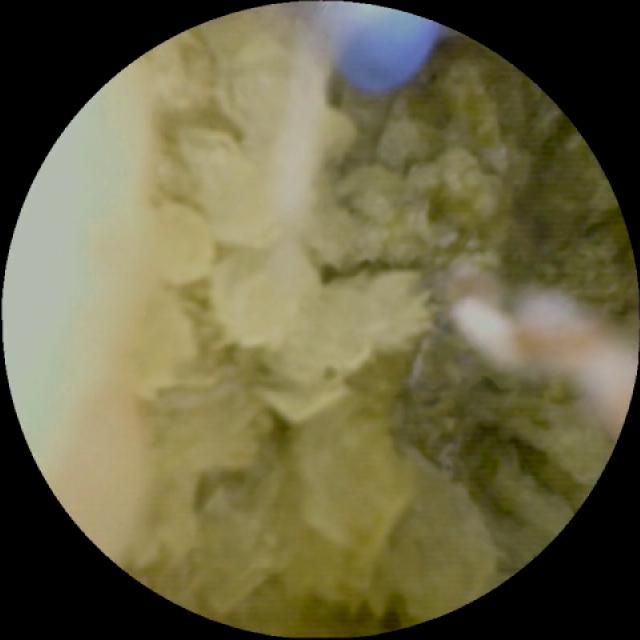fiber: (335, 9, 435, 87)
stone: (129, 8, 626, 630)
